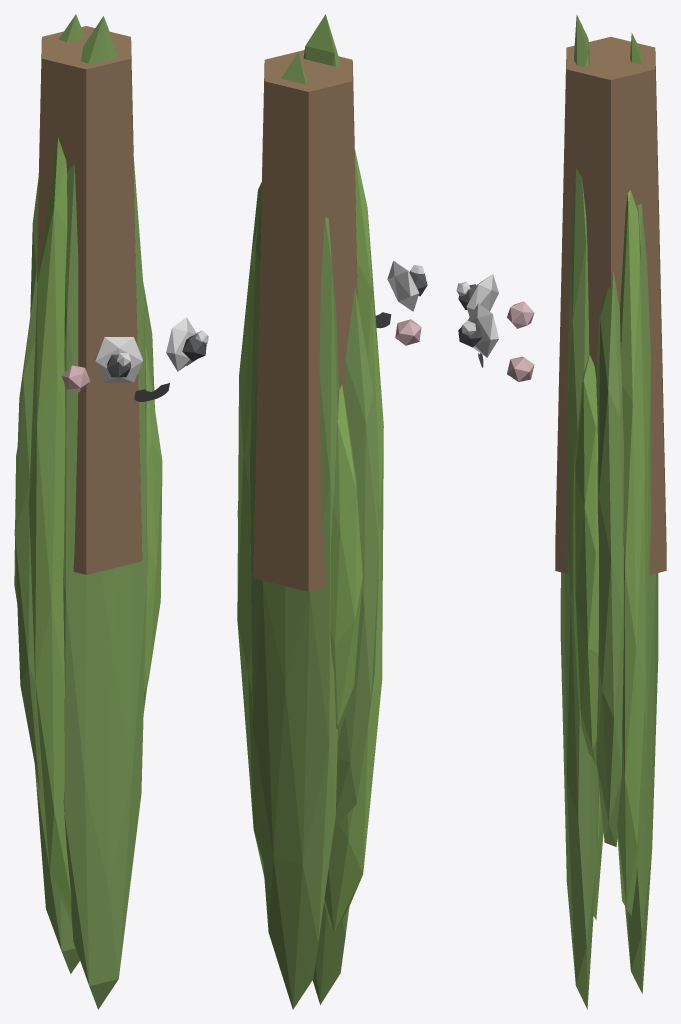
File: dracaena-fragrans.glb
The picture shows the model from 3 angles, left to right: view 1: azimuth 30°, elevation 25°; view 2: azimuth 150°, elevation 25°; view 3: azimuth 270°, elevation 25°; orthographic projection.
Parts seen in each view (by area): view 1: blade2, cane, blade3, blade4, blade1, blade6, pface-eye-r, pface-eye-l, blade0, pface-blush--1; view 2: cane, blade6, blade4, blade3, blade5, blade7, blade2, pface-eye-r, pface-blush--1; view 3: cane, blade7, blade2, blade0, blade1, blade6, pface-eye-l, pface-eye-r, blade3, pface-blush-1, pface-blush--1.
Part boxes in pixels (x1,y1,x2,y2): blade2: (63, 16, 147, 1009); cane: (37, 26, 142, 574); blade3: (29, 138, 71, 922); blade4: (14, 266, 43, 794); blade1: (144, 345, 162, 700); blade6: (30, 14, 84, 973); pface-eye-r: (95, 337, 142, 382); pface-eye-l: (166, 317, 196, 371); blade0: (143, 281, 154, 712); pface-blush--1: (62, 365, 90, 391); cane: (253, 50, 357, 591); blade6: (249, 52, 339, 1009); blade4: (334, 288, 379, 828); blade3: (324, 147, 383, 932); blade5: (330, 384, 362, 740); blade7: (237, 182, 264, 876); blade2: (303, 14, 349, 1004); pface-eye-r: (387, 260, 419, 311); pface-blush--1: (395, 319, 421, 345); cane: (555, 37, 666, 574); blade7: (617, 190, 646, 915); blade2: (560, 14, 598, 1009); blade0: (596, 269, 624, 846); blade1: (573, 355, 598, 764); blade6: (625, 33, 658, 993); pface-eye-l: (468, 303, 498, 357); pface-eye-r: (466, 274, 498, 316); blade3: (593, 789, 603, 919); pface-blush-1: (507, 356, 534, 381); pface-blush--1: (507, 301, 534, 328).
Size of the model in its own units: 0.09 by 0.5989 by 0.1145.
